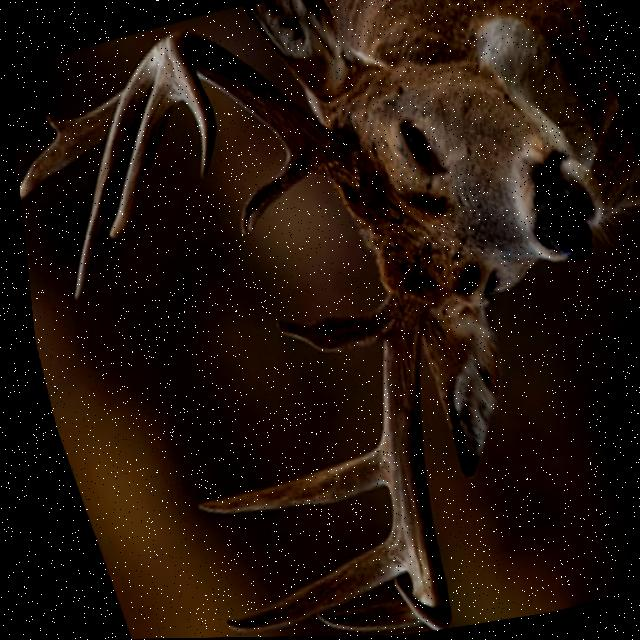L-F: (166, 30, 356, 192)
L-G1: (234, 145, 311, 236)
L-G3: (65, 38, 164, 302)
L-G4: (101, 40, 180, 239)
R-F: (373, 292, 437, 632)
R-G1: (266, 303, 381, 355)
R-G2: (183, 446, 378, 516)
R-G3: (211, 526, 396, 633)
